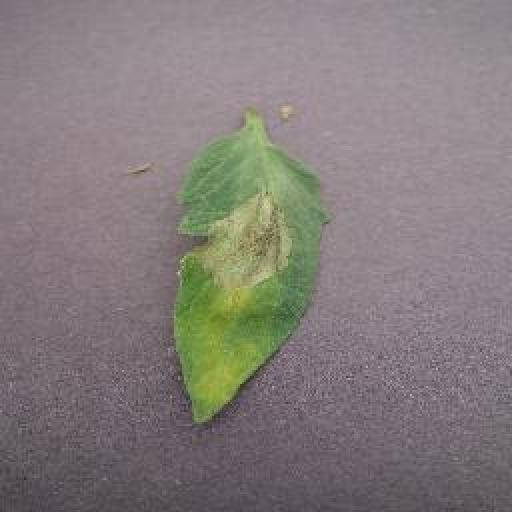Late Blight: (171, 134, 333, 426)
